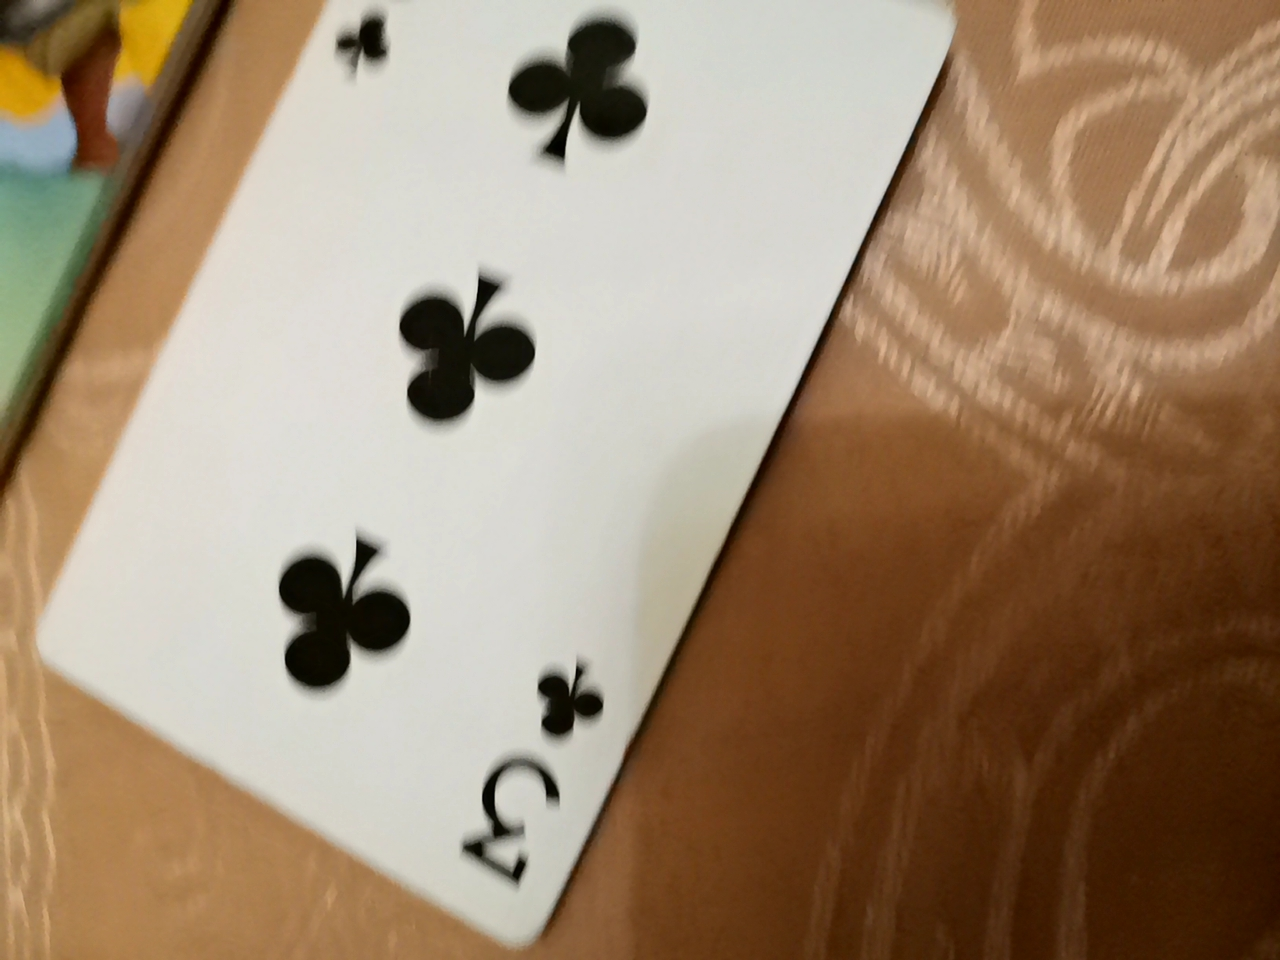mh 3: (81, 10, 922, 955)
